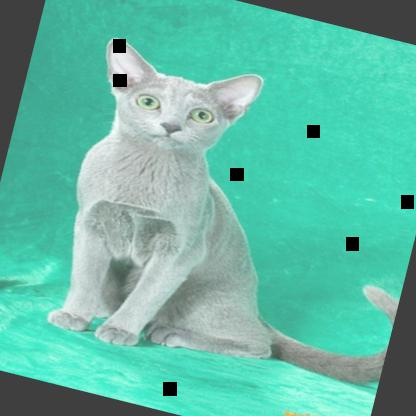cat: (36, 36, 415, 409)
